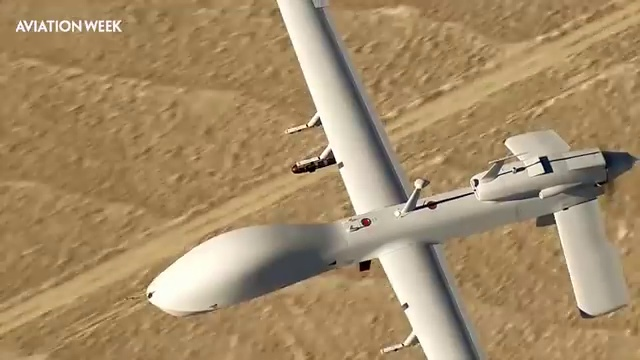military drone: (125, 0, 631, 360)
